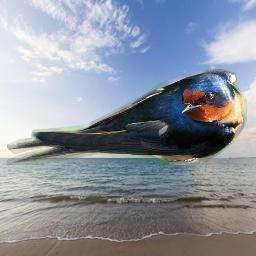Swallow: (7, 69, 247, 165)
